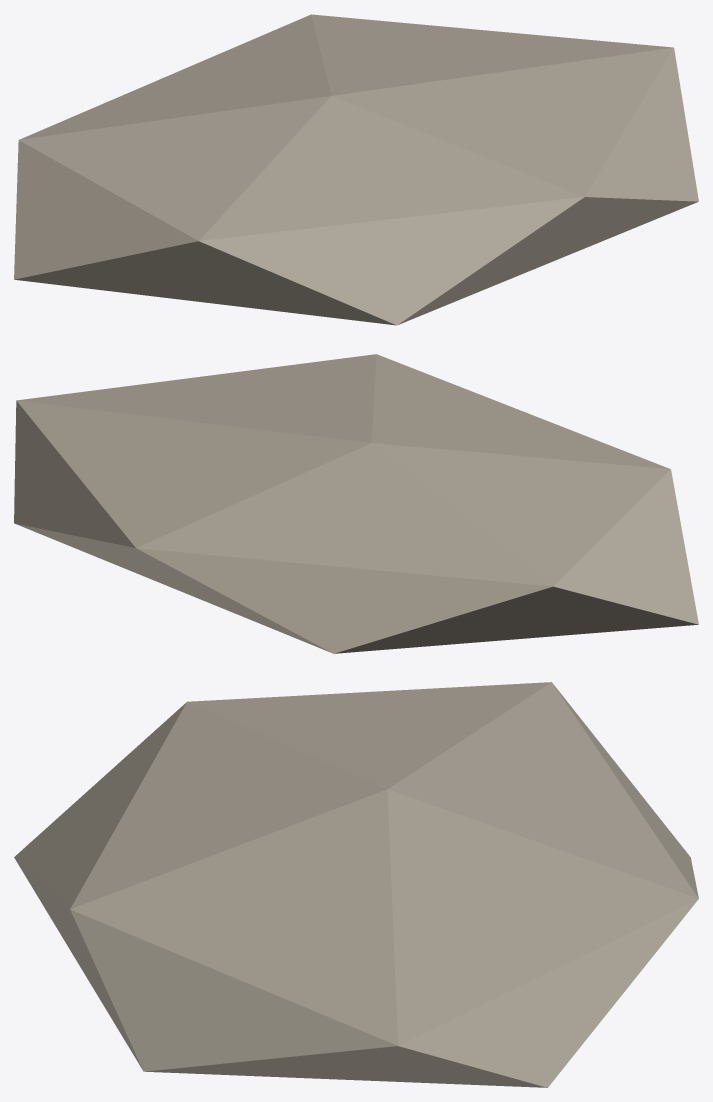
The model's file is nature2_rock_flat.glb.
The picture shows the model from 3 angles, top to bottom: view 1: azimuth 30°, elevation 25°; view 2: azimuth 150°, elevation 25°; view 3: azimuth 270°, elevation 25°; orthographic projection. The views are drawn at different scales.
Parts seen in each view (by area): view 1: rock_flat; view 2: rock_flat; view 3: rock_flat.
Part boxes in pixels (left/top/right/bottom): rock_flat: left=14, top=14, right=698, bottom=325; rock_flat: left=14, top=354, right=698, bottom=653; rock_flat: left=14, top=682, right=698, bottom=1087.
Size of the model in its own units: 1.47 by 0.2879 by 1.06.
